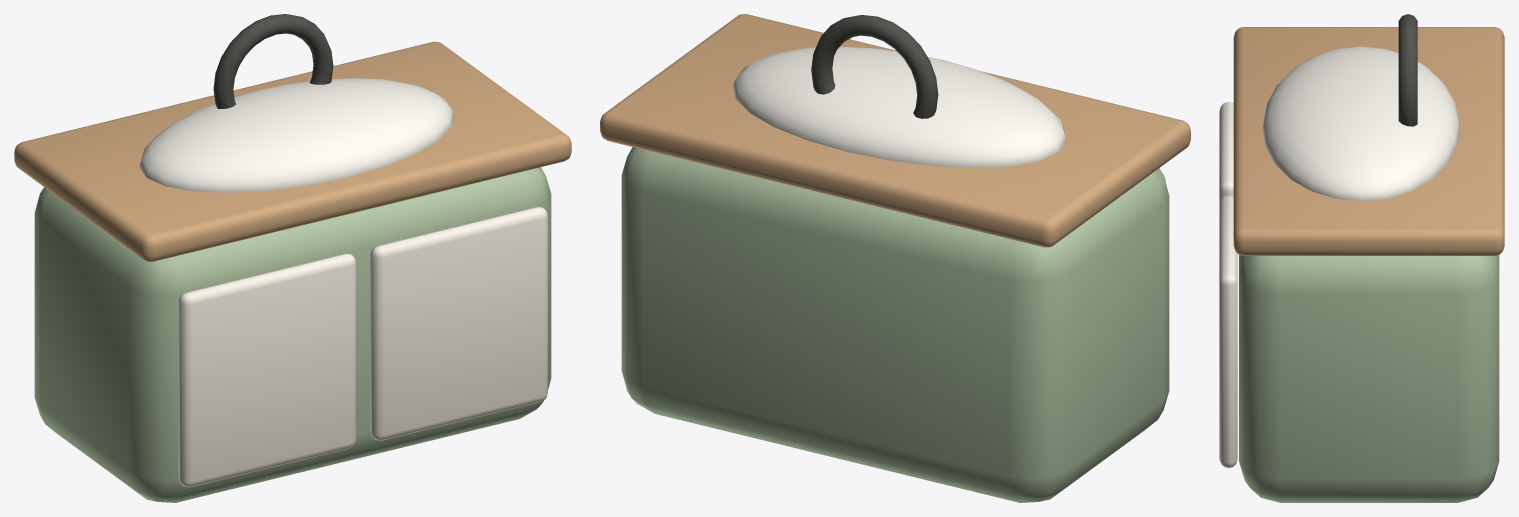
File: sink-unit.glb
The picture shows the model from 3 angles, left to right: view 1: azimuth 30°, elevation 25°; view 2: azimuth 150°, elevation 25°; view 3: azimuth 270°, elevation 25°; orthographic projection. The views are drawn at different scales.
Visible parts, largest first — view 1: cabinet, worktop.003, door.010, door.011, basin, tap.002; view 2: cabinet, worktop.003, basin, tap.002; view 3: cabinet, worktop.003, basin, door.011, tap.002, door.010.
Part boxes in pixels (left/top/right/bottom): cabinet: left=34, top=167, right=551, bottom=502; worktop.003: left=14, top=41, right=571, bottom=261; door.010: left=178, top=253, right=356, bottom=487; door.011: left=370, top=206, right=547, bottom=440; basin: left=139, top=78, right=454, bottom=192; tap.002: left=213, top=14, right=333, bottom=108; cabinet: left=621, top=147, right=1169, bottom=502; worktop.003: left=600, top=14, right=1190, bottom=247; basin: left=732, top=46, right=1066, bottom=167; tap.002: left=811, top=15, right=938, bottom=118; cabinet: left=1239, top=255, right=1499, bottom=502; worktop.003: left=1233, top=27, right=1504, bottom=255; basin: left=1262, top=46, right=1460, bottom=201; door.011: left=1219, top=195, right=1237, bottom=468; tap.002: left=1398, top=14, right=1417, bottom=126; door.010: left=1219, top=102, right=1233, bottom=203.
Bounding box in the file's own units: 1.24 × 1.09 × 0.7118.
